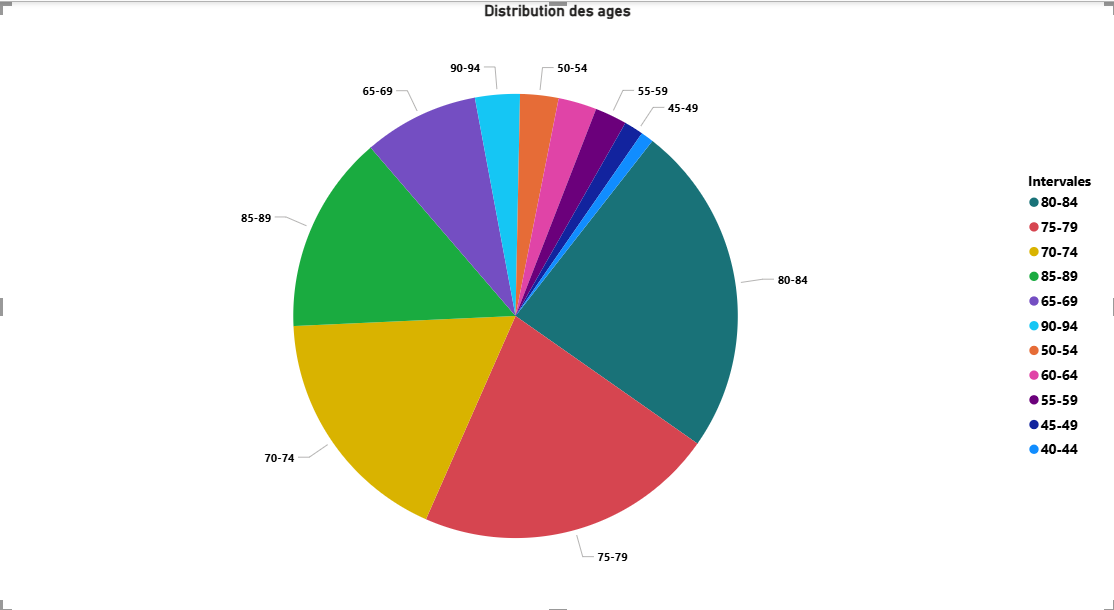

This screenshot's page, from the dashboard's own definition file:
{"tool":"powerbi","page":{"name":"age_c","canvas":[1280,720],"ordinal":2},"visuals":[{"type":"pieChart","title":"Répartition par age","fields":{"Category":["shipman-confirmed-victims.ageBracket"],"Y":["CountNonNull(shipman-confirmed-victims.ageBracket)"]},"box":[9.7,0,1207.9,660.6],"z":0}]}

Visuals, with their boxes in screenshot pixels (x1, y1, x2, y2), scaled from the page's 1280x720 canvas onto the 1114x610 screenshot:
"Répartition par age" pieChart: rect(8, 0, 1060, 560)
